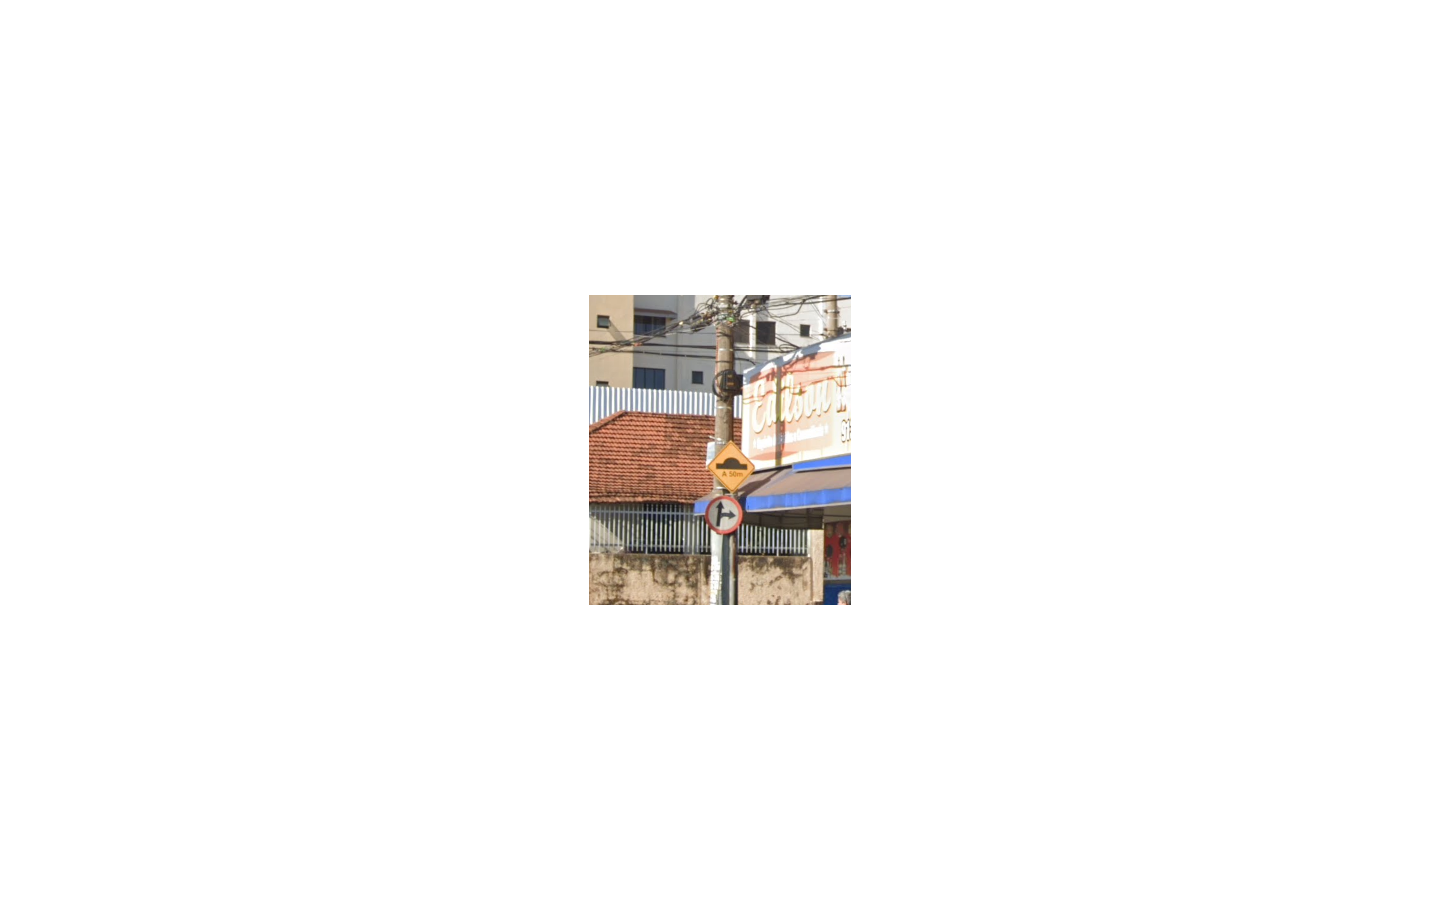l50m: (706, 439, 755, 494)
